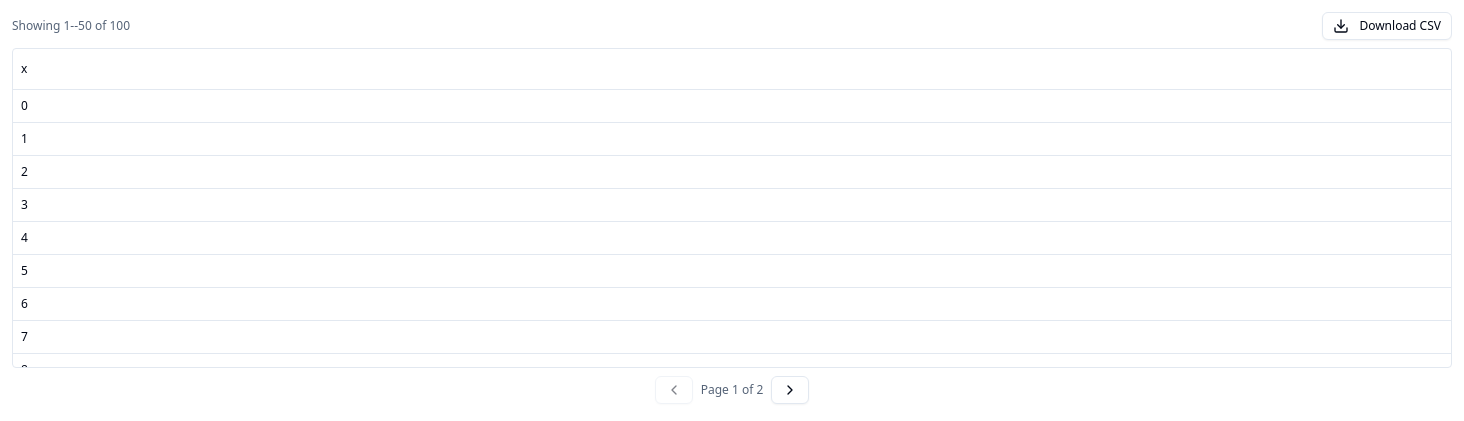
Scenario: PredictionsTable › navigates to next page when next button is clicked
Expected: the text "Page 1 of 2" is shown, x1=701 y1=382 x2=763 y2=398
Step 1. Click the 3rd button → (790, 390), box x1=771 y1=376 x2=809 y2=404
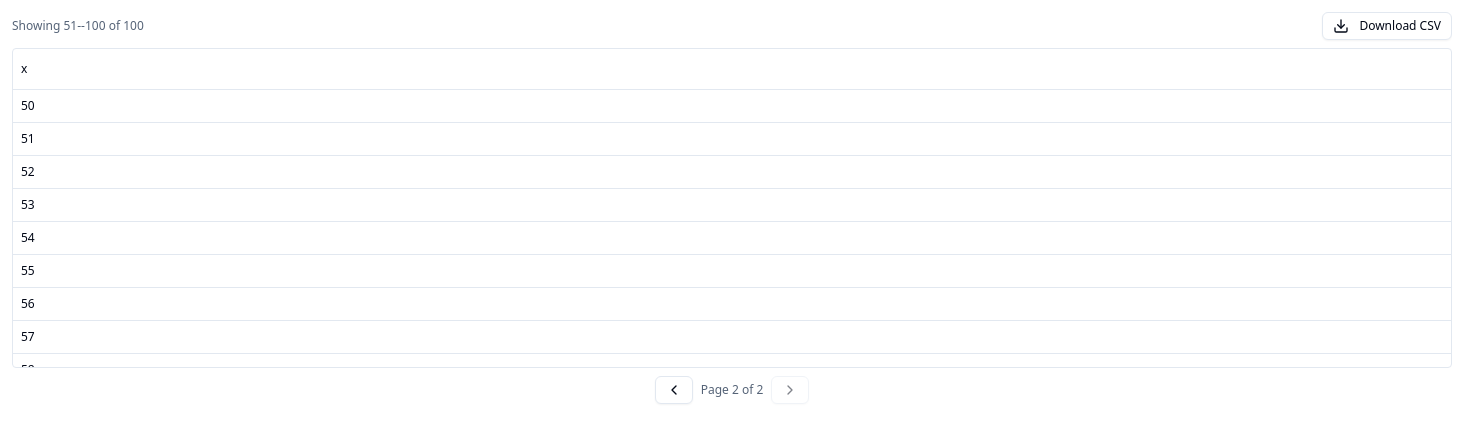
Expected: the text "Page 2 of 2" is shown, x1=701 y1=382 x2=763 y2=398
